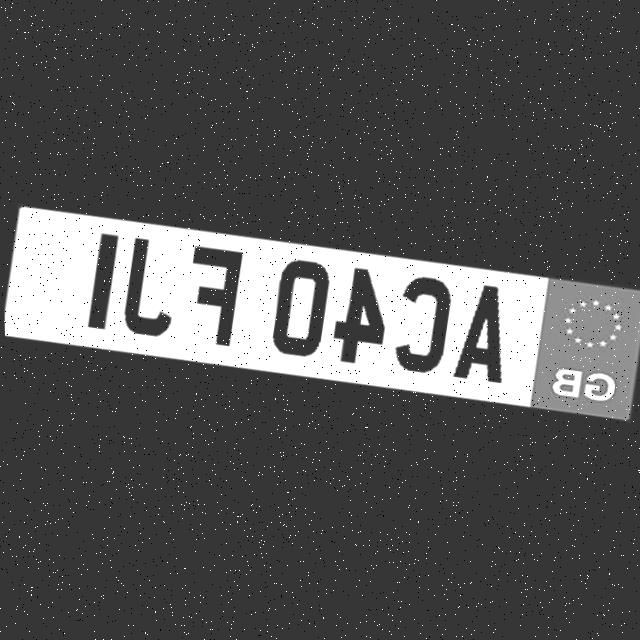license-plates: (4, 205, 640, 419)
